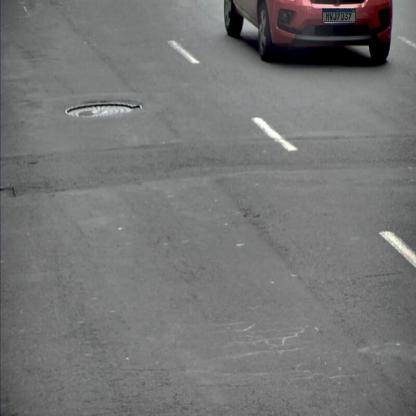PlacaM: (322, 8, 356, 22)
